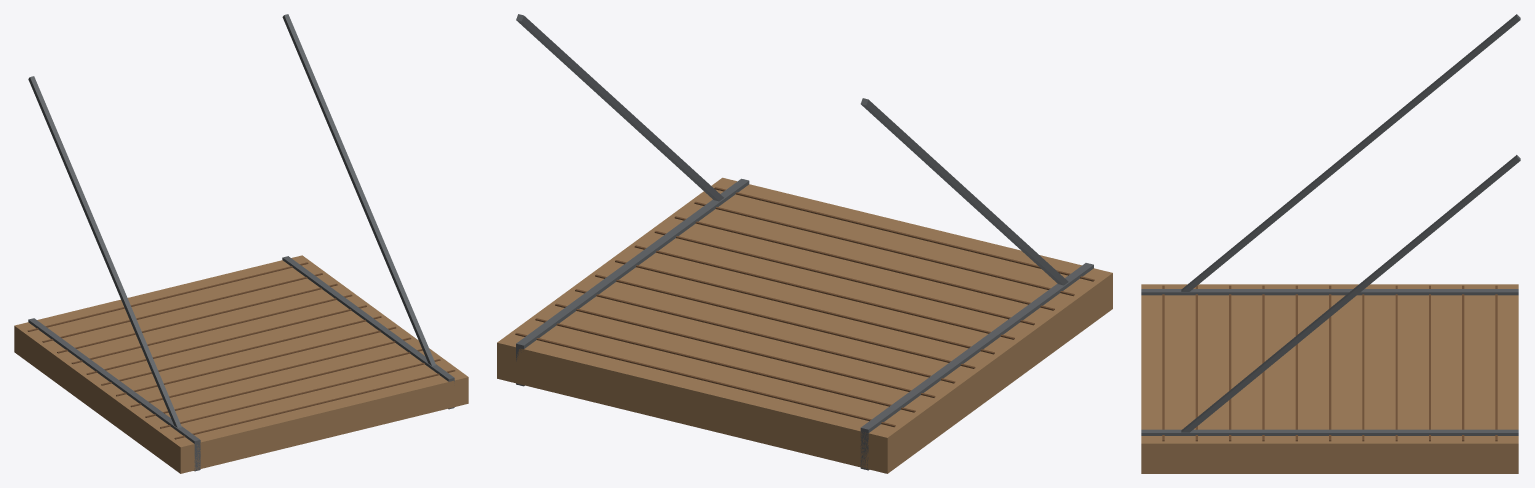
Rendered from 10_drawbridge.glb.
3 views of the same model, side by side, from view 1: azimuth 30°, elevation 25°; view 2: azimuth 150°, elevation 25°; view 3: azimuth 270°, elevation 25° (orthographic). The views are drawn at different scales.
Parts seen in each view (by area): view 1: drawbridge_planks, drawbridge_wood_nocol, drawbridge_iron_nocol, drawbridge_iron; view 2: drawbridge_planks, drawbridge_wood_nocol, drawbridge_iron, drawbridge_iron_nocol; view 3: drawbridge_planks, drawbridge_iron_nocol, drawbridge_iron, drawbridge_wood_nocol.
Boxes of the visible parts, x1=… form: drawbridge_planks: x1=14, y1=255, x2=468, y2=473; drawbridge_wood_nocol: x1=27, y1=262, x2=455, y2=439; drawbridge_iron_nocol: x1=28, y1=14, x2=435, y2=427; drawbridge_iron: x1=28, y1=256, x2=454, y2=471; drawbridge_planks: x1=497, y1=177, x2=1112, y2=473; drawbridge_wood_nocol: x1=515, y1=187, x2=1094, y2=427; drawbridge_iron: x1=516, y1=178, x2=1093, y2=470; drawbridge_iron_nocol: x1=516, y1=14, x2=1068, y2=285; drawbridge_planks: x1=1141, y1=284, x2=1518, y2=473; drawbridge_iron_nocol: x1=1181, y1=14, x2=1520, y2=432; drawbridge_iron: x1=1141, y1=289, x2=1518, y2=435; drawbridge_wood_nocol: x1=1162, y1=285, x2=1497, y2=441.
Size of the model in its own units: 34 by 30.79 by 34.17.
